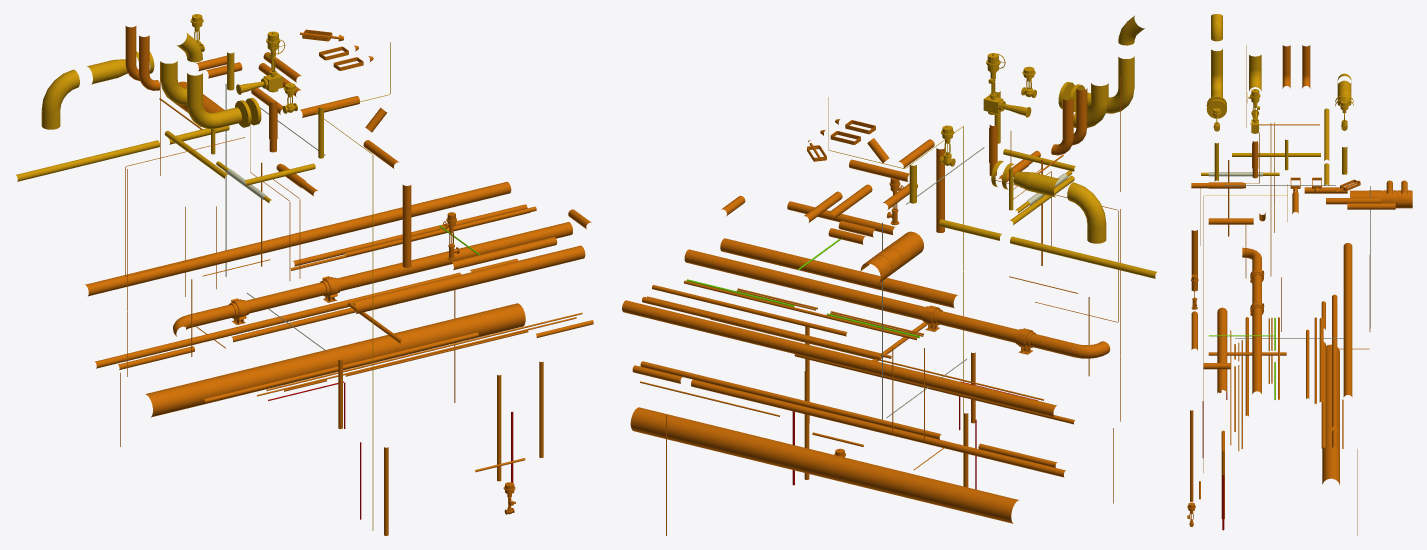
3 views of the same model, side by side, from view 1: azimuth 30°, elevation 25°; view 2: azimuth 150°, elevation 25°; view 3: azimuth 270°, elevation 25° (orthographic). The views are drawn at different scales.
Bounding box in the file's own units: 22.19 × 22.79 × 11.59.
